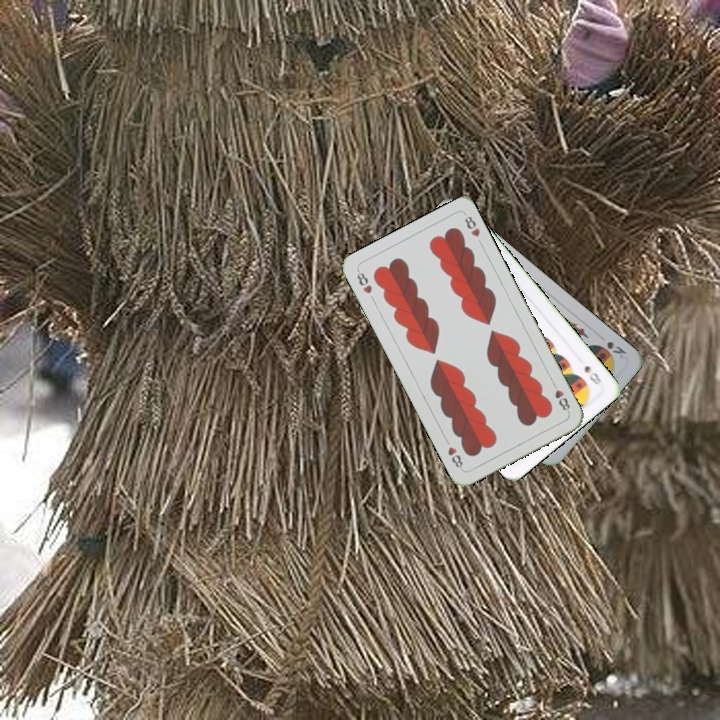H8: (548, 378, 573, 415), (353, 267, 375, 296)
S8: (580, 361, 604, 387)
SK: (603, 337, 629, 361)
